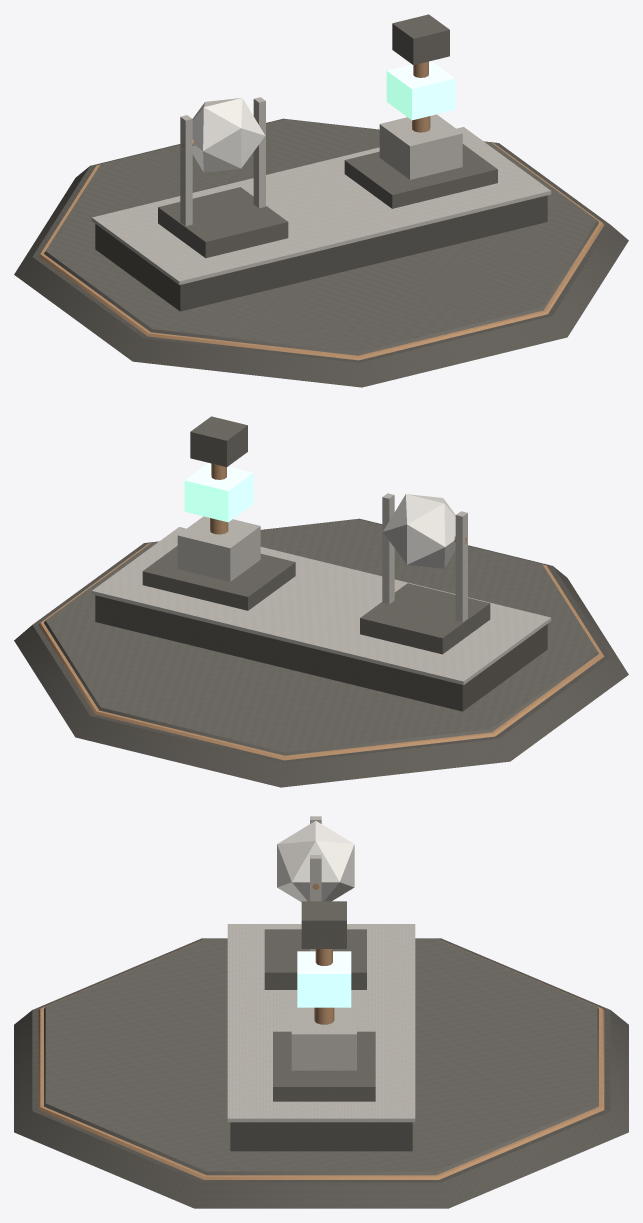
File: projects-stage.glb
The picture shows the model from 3 angles, top to bottom: view 1: azimuth 30°, elevation 25°; view 2: azimuth 150°, elevation 25°; view 3: azimuth 270°, elevation 25°; orthographic projection. The views are drawn at different scales.
Parts seen in each view (by area): view 1: pr_deck, pr_base_lower, pr_bench_trim, pr_bench, pr_gimbal_base, pr_data_subbase, pr_web3d_core, pr_base_inlay, pr_stage_1, pr_stage_2, pr_stage_3, pr_gimbal_post_l (+1 smaller); view 2: pr_deck, pr_base_lower, pr_bench_trim, pr_bench, pr_gimbal_base, pr_data_subbase, pr_base_inlay, pr_web3d_core, pr_stage_1, pr_stage_2, pr_stage_3, pr_gimbal_post_l (+1 smaller); view 3: pr_deck, pr_base_lower, pr_bench_trim, pr_bench, pr_data_subbase, pr_base_inlay, pr_web3d_core, pr_stage_1, pr_gimbal_base, pr_stage_2, pr_stage_3, pr_gimbal_post_r.
Part boxes in pixels (x1,y1,x2,y2): pr_deck: [44, 119, 598, 355]; pr_base_lower: [14, 118, 628, 387]; pr_bench_trim: [91, 127, 551, 284]; pr_bench: [95, 195, 547, 311]; pr_gimbal_base: [158, 187, 288, 258]; pr_data_subbase: [344, 144, 497, 208]; pr_web3d_core: [192, 98, 265, 172]; pr_base_inlay: [38, 143, 604, 360]; pr_stage_1: [379, 114, 462, 179]; pr_stage_2: [386, 61, 455, 120]; pr_stage_3: [392, 14, 449, 65]; pr_gimbal_post_l: [180, 115, 192, 226]; pr_deck: [44, 519, 598, 755]; pr_base_lower: [14, 518, 628, 787]; pr_bench_trim: [91, 527, 551, 684]; pr_bench: [95, 595, 547, 711]; pr_gimbal_base: [360, 583, 490, 654]; pr_data_subbase: [142, 546, 295, 610]; pr_base_inlay: [38, 543, 604, 760]; pr_web3d_core: [383, 494, 455, 568]; pr_stage_1: [177, 516, 260, 581]; pr_stage_2: [184, 463, 253, 522]; pr_stage_3: [190, 416, 247, 466]; pr_gimbal_post_l: [455, 511, 467, 622]; pr_deck: [44, 938, 598, 1175]; pr_base_lower: [14, 938, 628, 1208]; pr_bench_trim: [227, 924, 415, 1122]; pr_bench: [230, 1122, 412, 1151]; pr_data_subbase: [273, 1031, 375, 1101]; pr_base_inlay: [38, 939, 604, 1179]; pr_web3d_core: [277, 821, 354, 901]; pr_stage_1: [291, 1006, 356, 1070]; pr_gimbal_base: [264, 929, 366, 989]; pr_stage_2: [297, 951, 351, 1007]; pr_stage_3: [301, 901, 346, 948]; pr_gimbal_post_r: [310, 855, 321, 951].
Size of the model in its own units: 4.32 by 1.71 by 4.32.
Materials: 6 (4 with a texture image).
